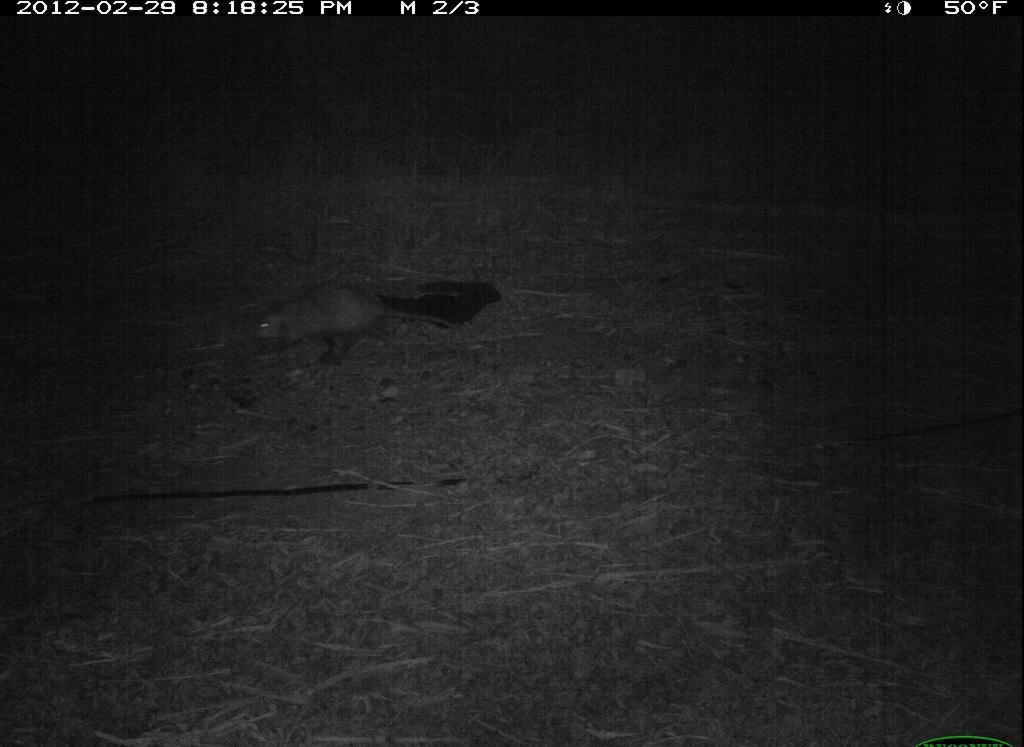opossum: (244, 274, 475, 369)
